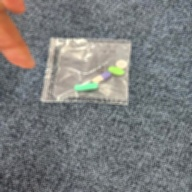러키펜정: (115, 60, 127, 69)
씨엠지세파클러캡슐: (92, 72, 112, 84)
에르도캡슐: (74, 83, 99, 92)
휴티렌정: (108, 66, 125, 76)
